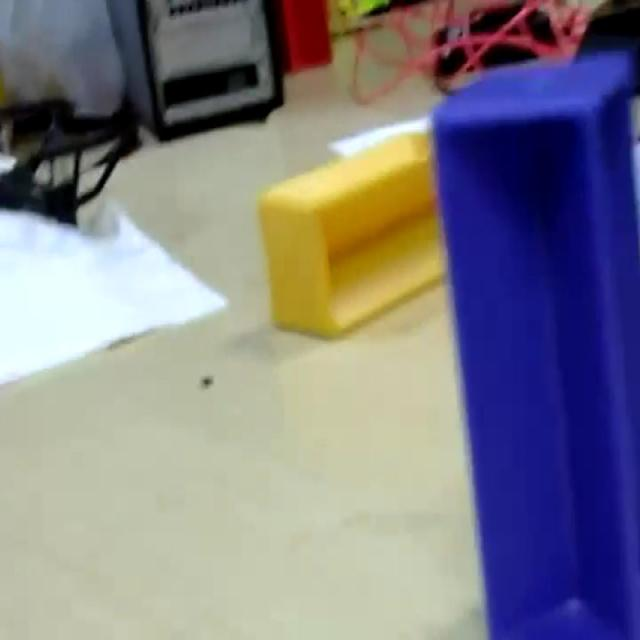blue_block: (430, 47, 638, 636)
yellow_block: (257, 123, 444, 337)
